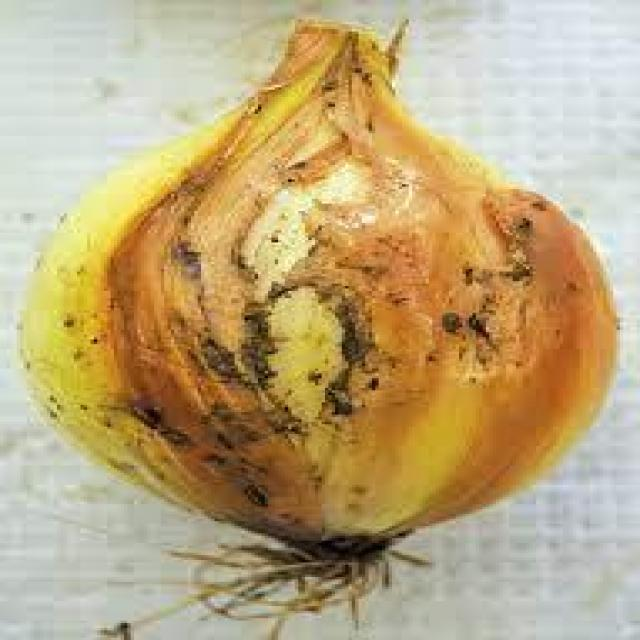Onion: (17, 34, 620, 587)
